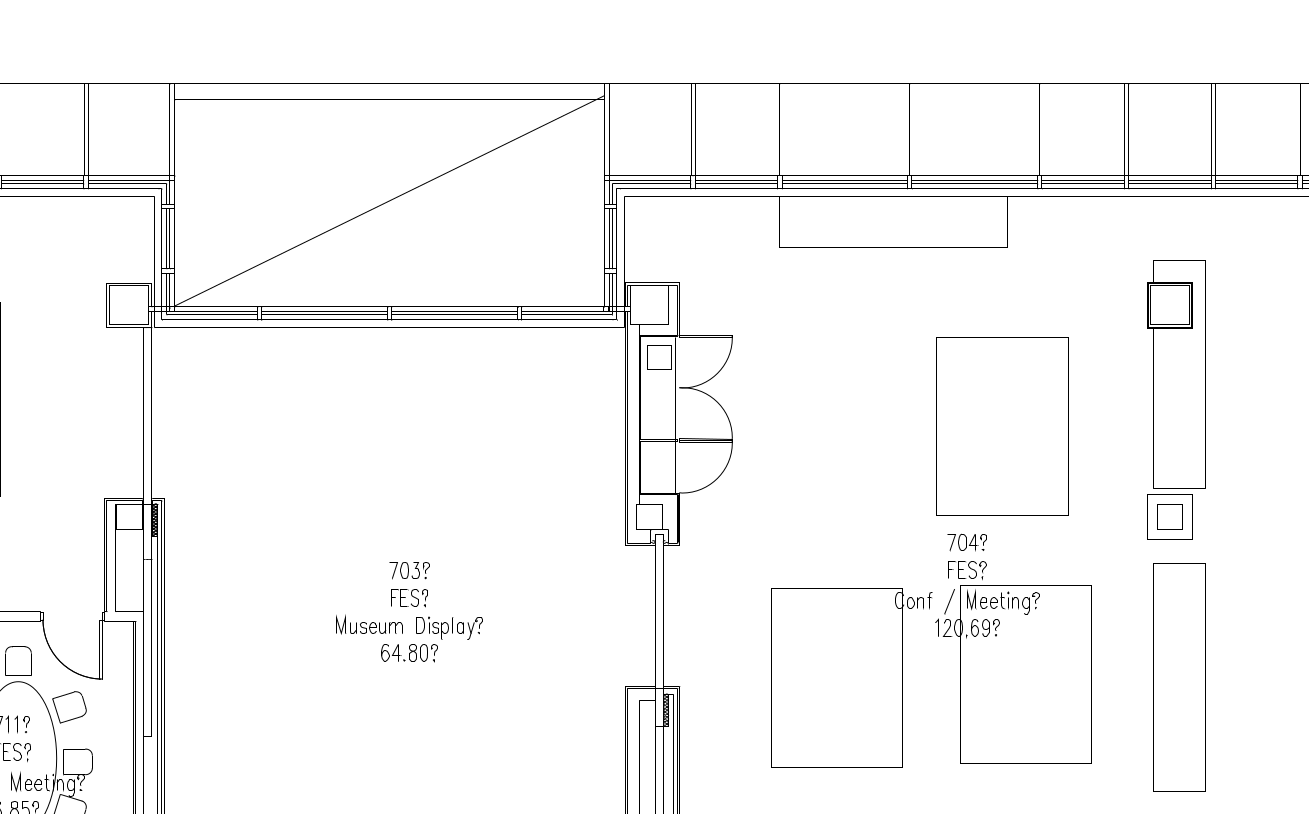door: (674, 331, 736, 443), (39, 619, 115, 686), (676, 441, 735, 496)
